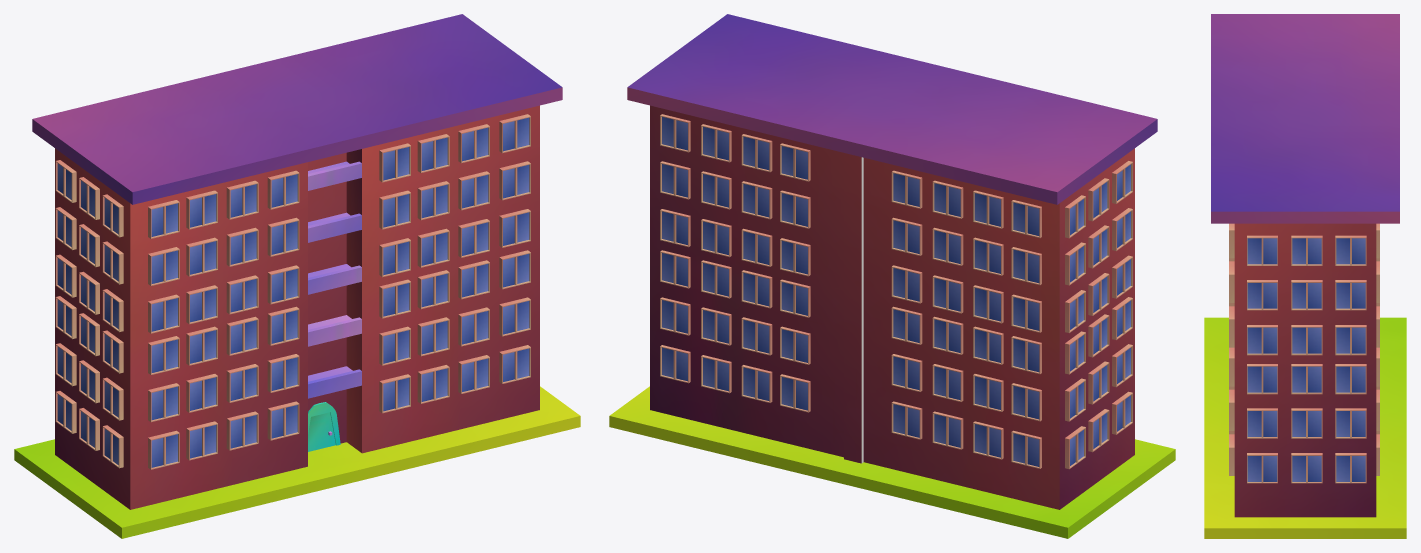
The model's file is House_17.fbx.
3 renders of one model, left to right at view 1: azimuth 30°, elevation 25°; view 2: azimuth 150°, elevation 25°; view 3: azimuth 270°, elevation 25°, orthographic. The views are drawn at different scales.
Parts seen in each view (by area): view 1: House.17; view 2: House.17; view 3: House.17.
Boxes of the visible parts, left/top/right/bottom form: House.17: left=14, top=14, right=580, bottom=538; House.17: left=609, top=14, right=1175, bottom=538; House.17: left=1204, top=14, right=1406, bottom=538.
Bounding box in the file's own units: 3197 × 2268 × 1298.
Materials: 1 (1 with a texture image).
